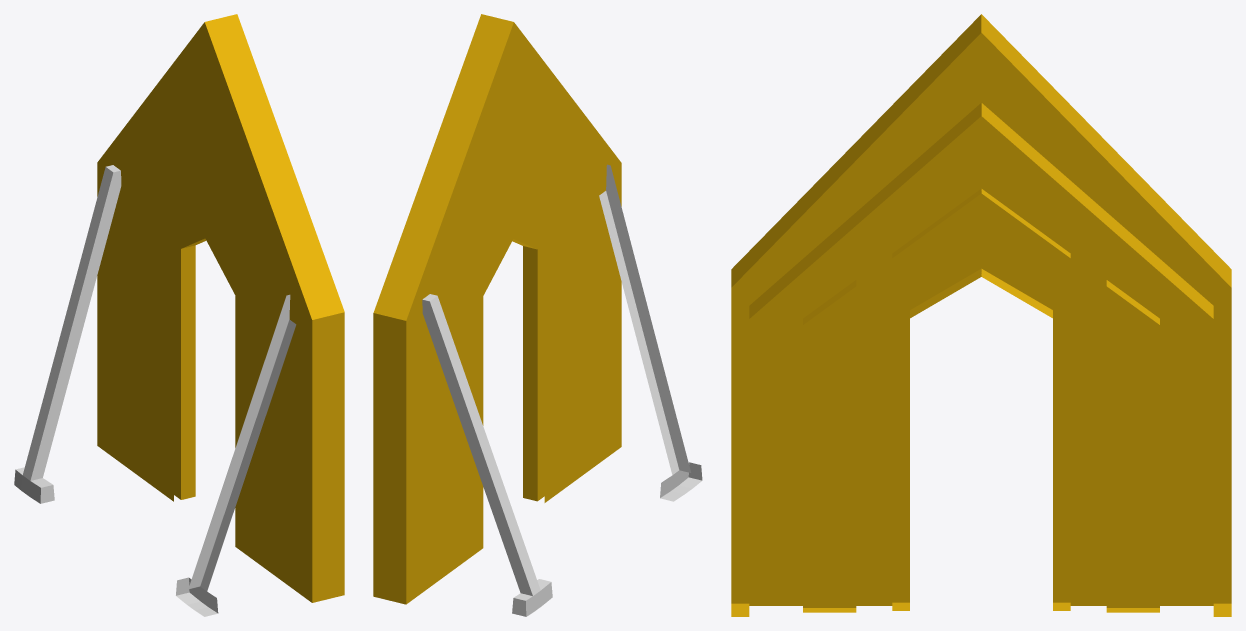
File: house sides.glb
The picture shows the model from 3 angles, left to right: view 1: azimuth 30°, elevation 25°; view 2: azimuth 150°, elevation 25°; view 3: azimuth 270°, elevation 25°; orthographic projection. The views are drawn at different scales.
Parts seen in each view (by area): view 1: Cube, Cube.002, Cube.001; view 2: Cube, Cube.002, Cube.001; view 3: Cube.
Part boxes in pixels (bbox=[...]): Cube: bbox=[97, 14, 344, 602]; Cube.002: bbox=[14, 165, 121, 503]; Cube.001: bbox=[176, 294, 296, 616]; Cube: bbox=[373, 14, 621, 604]; Cube.002: bbox=[422, 294, 552, 616]; Cube.001: bbox=[599, 164, 702, 501]; Cube: bbox=[731, 14, 1231, 616].
Bounding box in the file's own units: 0.8613 × 3.09 × 2.39.
